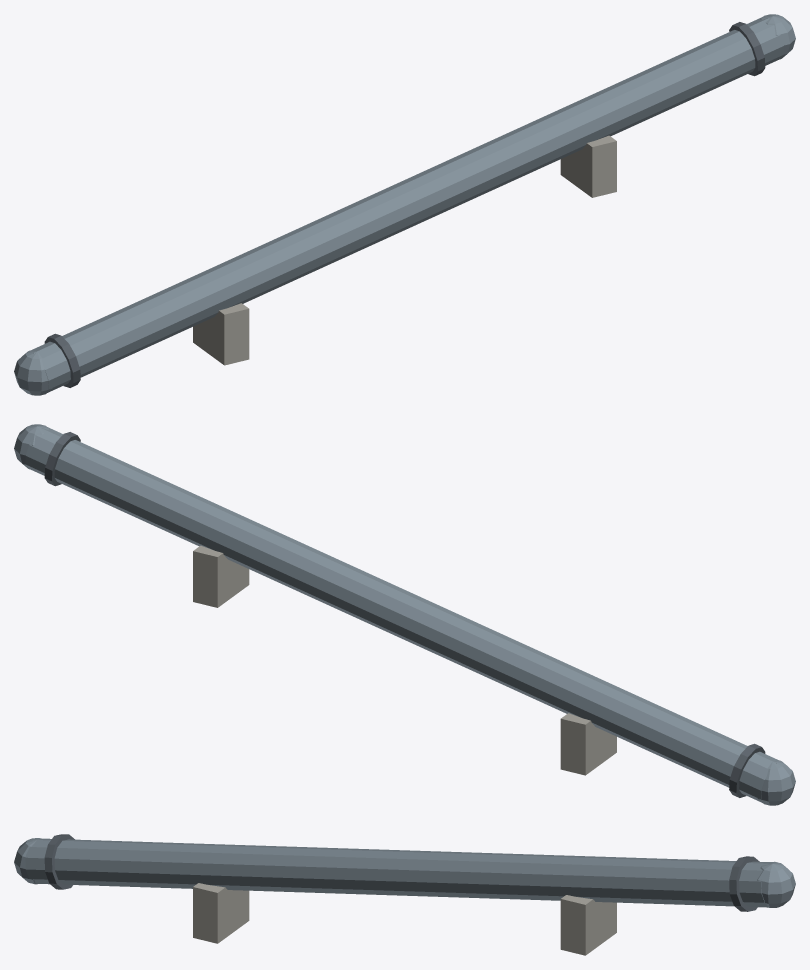
File: potrubi_svah.glb
3 views of the same model, one above another, from view 1: azimuth 30°, elevation 25°; view 2: azimuth 150°, elevation 25°; view 3: azimuth 330°, elevation 25° (orthographic).
Parts seen in each view (by area): view 1: potrubi_svah; view 2: potrubi_svah; view 3: potrubi_svah.
Boxes of the visible parts, box(x1,y1,x2,y2) form: potrubi_svah: box(14, 14, 795, 395); potrubi_svah: box(14, 424, 795, 805); potrubi_svah: box(14, 834, 795, 955).
Size of the model in its own units: 15.65 by 3.86 by 1.1.
Materials: 1 (1 with a texture image).
